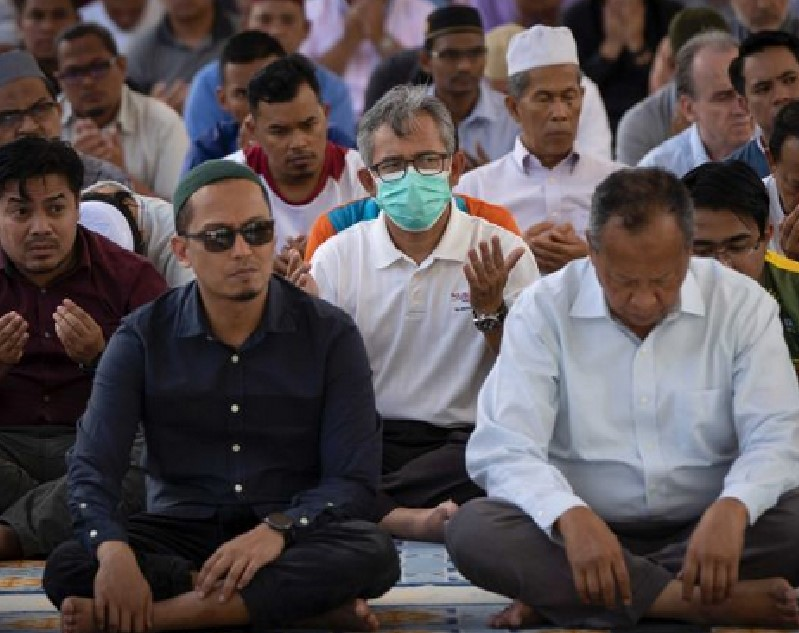face_no_mask: (585, 163, 698, 333), (172, 159, 280, 308), (241, 61, 332, 182), (4, 137, 83, 276), (508, 41, 586, 168), (671, 32, 754, 147), (54, 30, 135, 127), (735, 21, 799, 126), (423, 15, 494, 107), (248, 1, 313, 59)
face_with_mask: (356, 85, 465, 234)
